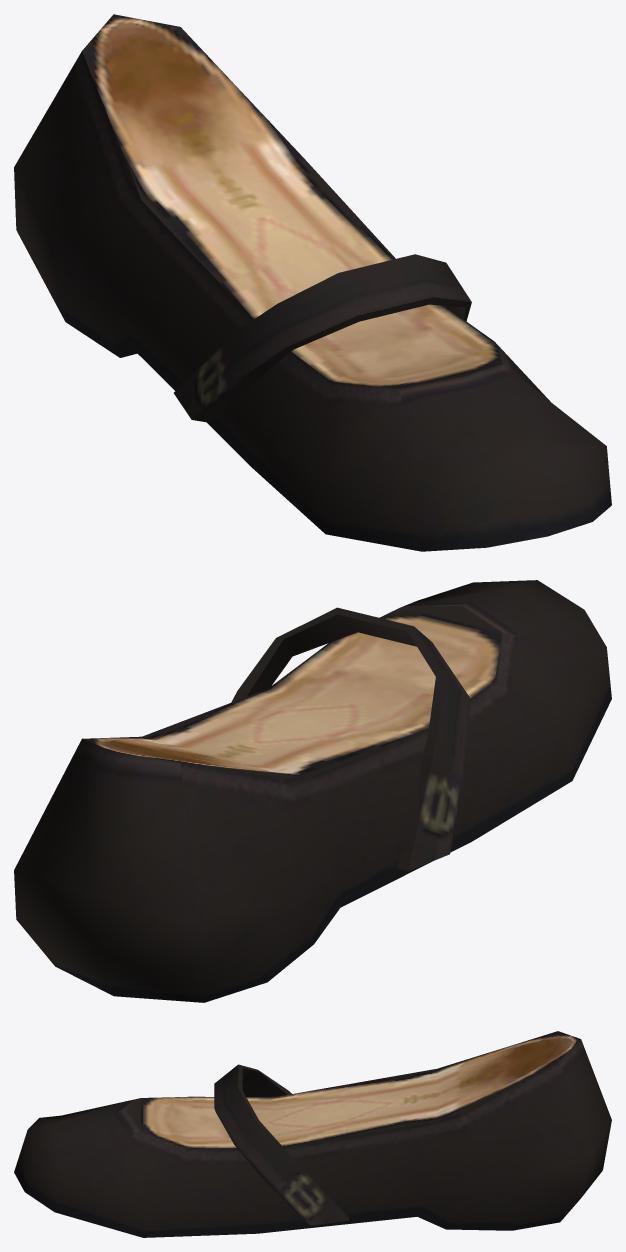
Rendered from sp_b_p_int_shoe_flat_lod0.glb.
The picture shows the model from 3 angles, top to bottom: view 1: azimuth 30°, elevation 25°; view 2: azimuth 150°, elevation 25°; view 3: azimuth 270°, elevation 25°; orthographic projection. The views are drawn at different scales.
Visible parts, largest first — view 1: surf0; view 2: surf0; view 3: surf0.
Boxes of the visible parts, bbox=[...] form: surf0: bbox=[14, 14, 611, 551]; surf0: bbox=[14, 580, 611, 1002]; surf0: bbox=[14, 1031, 611, 1237].
Bounding box in the file's own units: 4.26 × 3.83 × 13.03.
